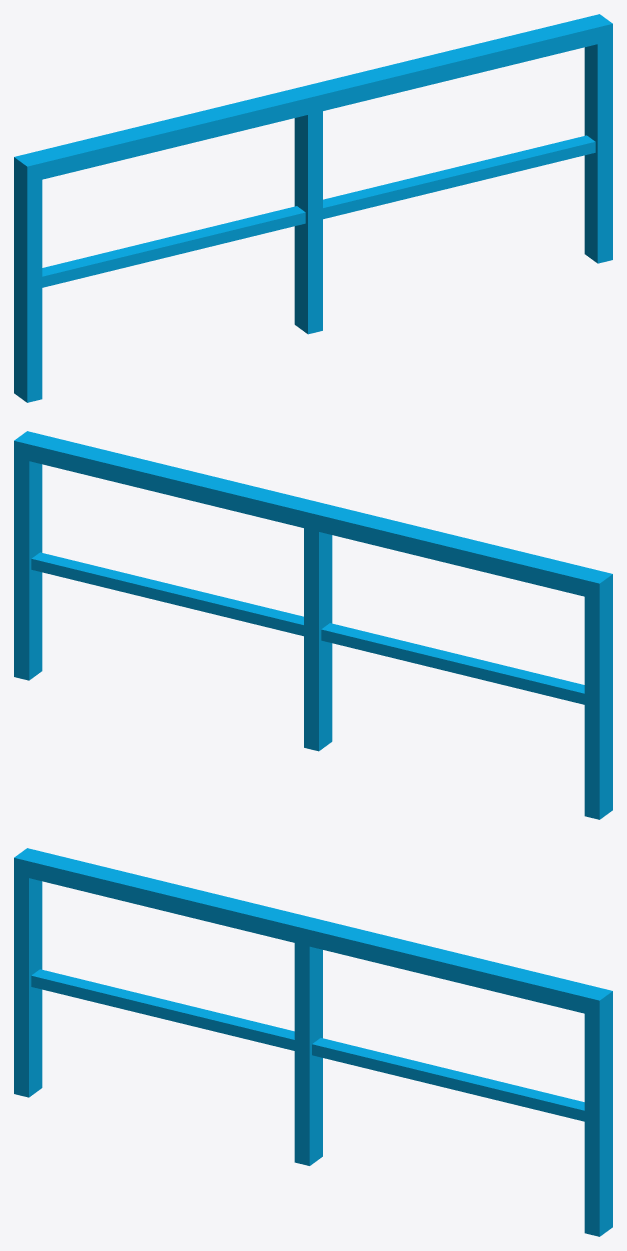
Rendered from Partitions_088.glb.
3 renders of one model, top to bottom at view 1: azimuth 30°, elevation 25°; view 2: azimuth 150°, elevation 25°; view 3: azimuth 330°, elevation 25°, orthographic.
Parts seen in each view (by area): view 1: Partitions_088; view 2: Partitions_088; view 3: Partitions_088.
Part boxes in pixels (bbox=[...]): Partitions_088: bbox=[14, 14, 612, 402]; Partitions_088: bbox=[14, 431, 612, 819]; Partitions_088: bbox=[14, 848, 612, 1236].
Size of the model in its own units: 2.03 by 0.781 by 0.0793.
Materials: 1 (1 with a texture image).
